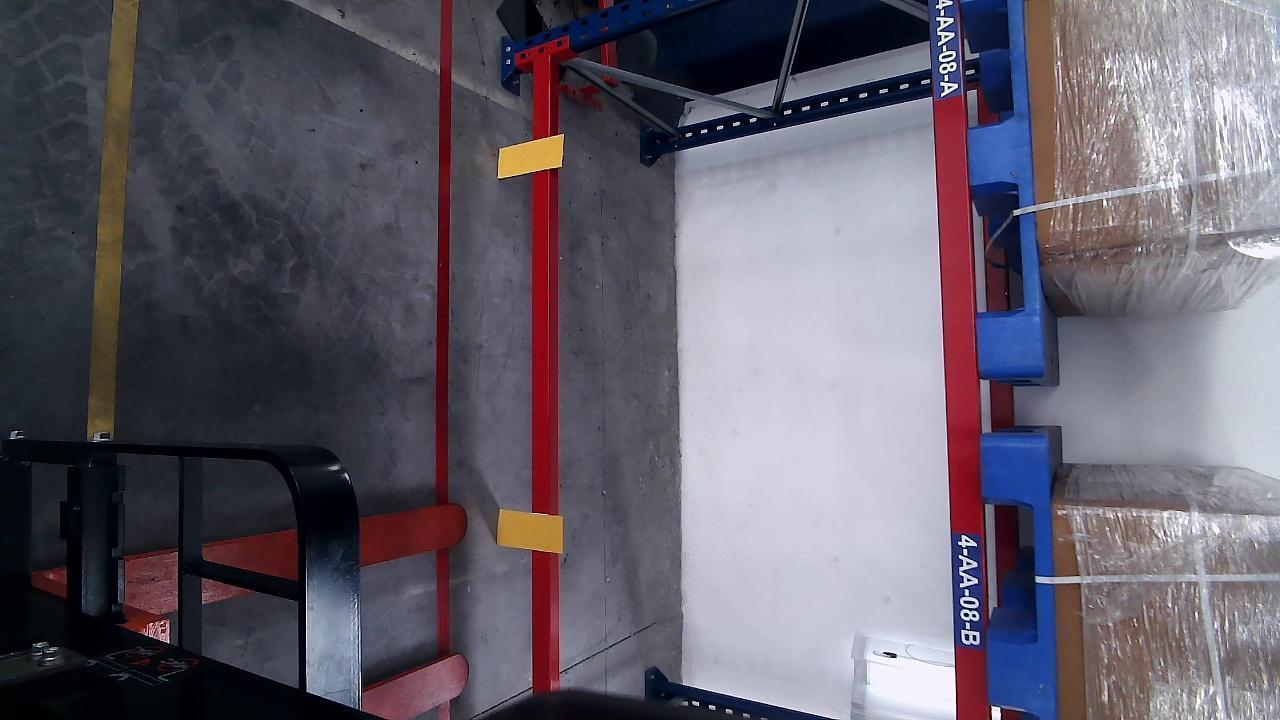red_line: (438, 2, 454, 655)
yellow_line: (84, 0, 139, 440)
